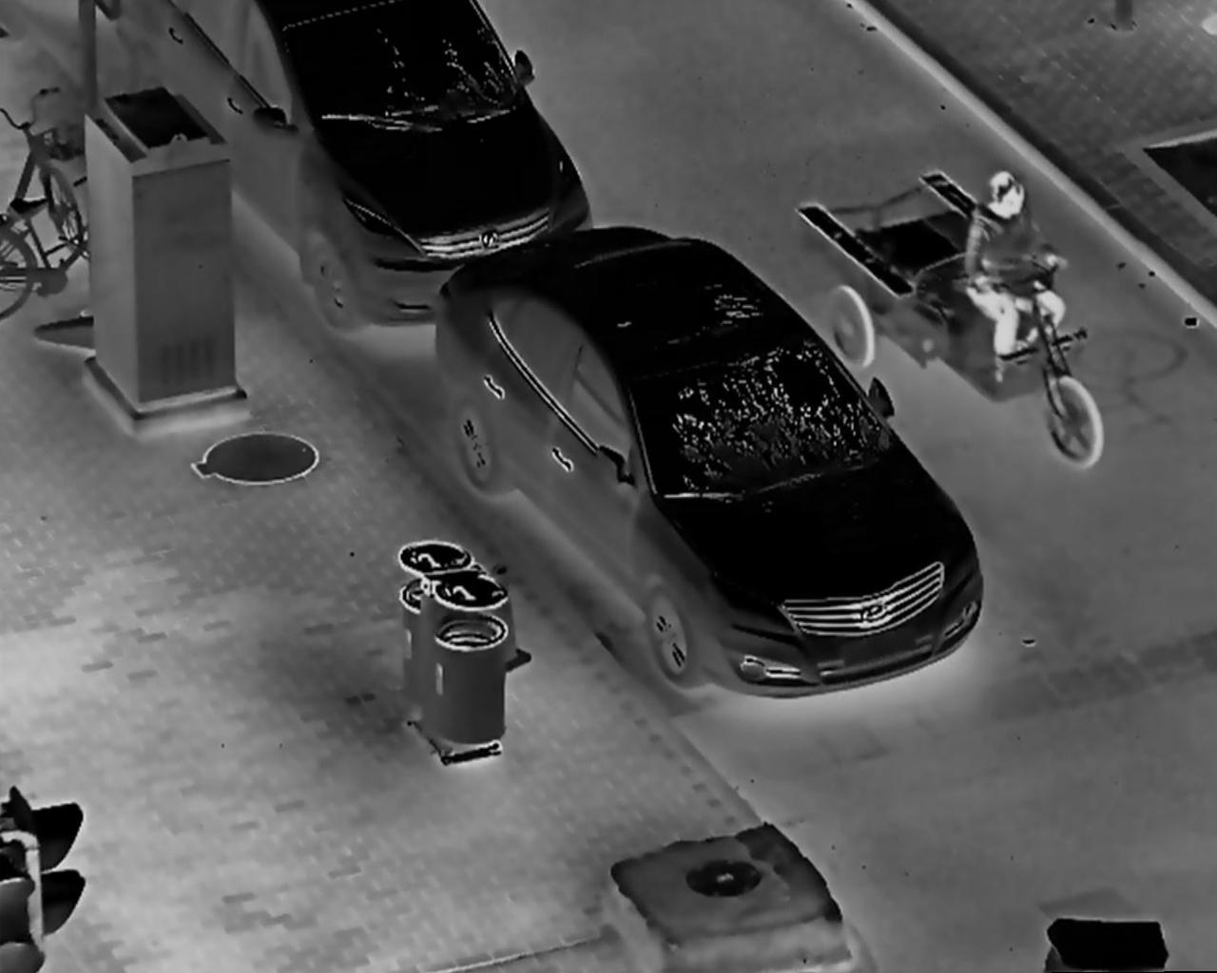person: (966, 165, 1072, 394)
